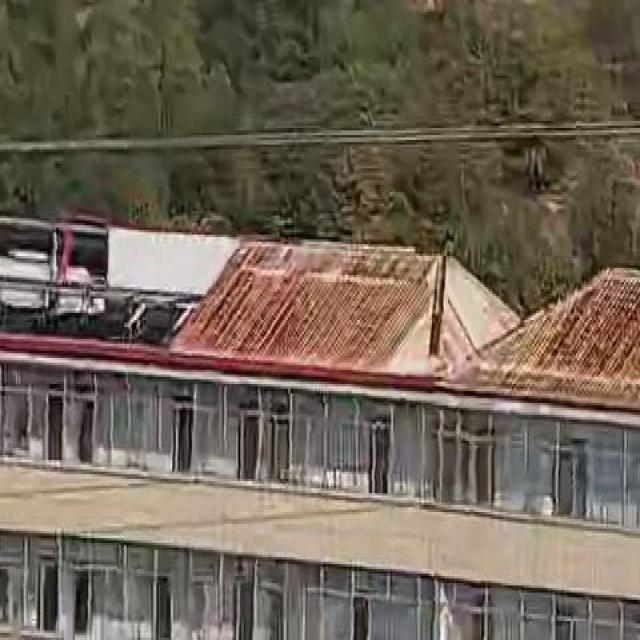other: (188, 204, 592, 406)
